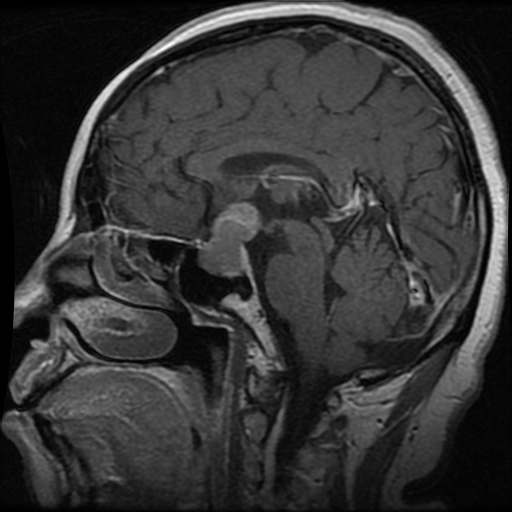pituitary: (199, 202, 261, 276)
